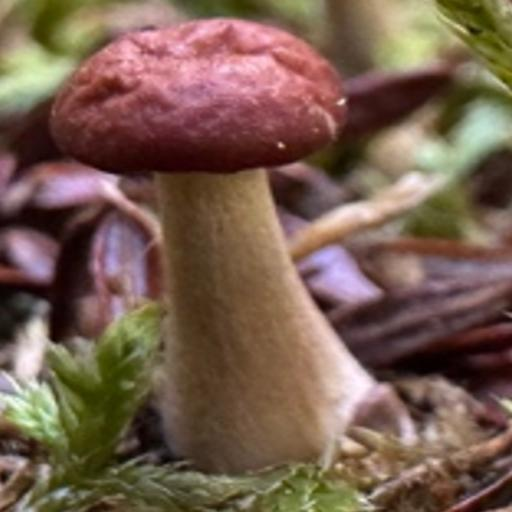mushroom: (40, 12, 361, 330)
